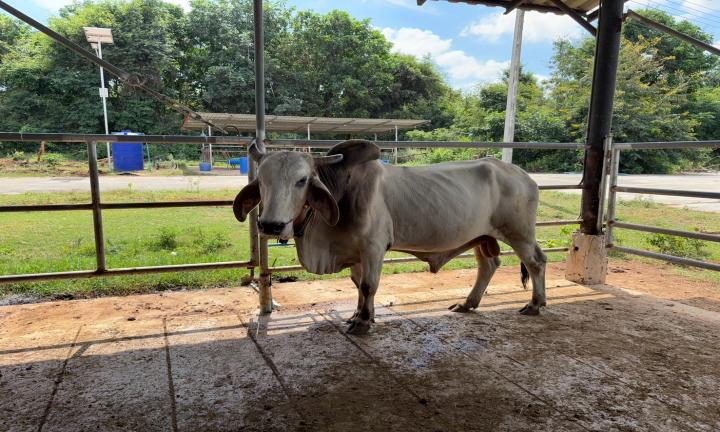Brahman: (234, 140, 546, 334)
